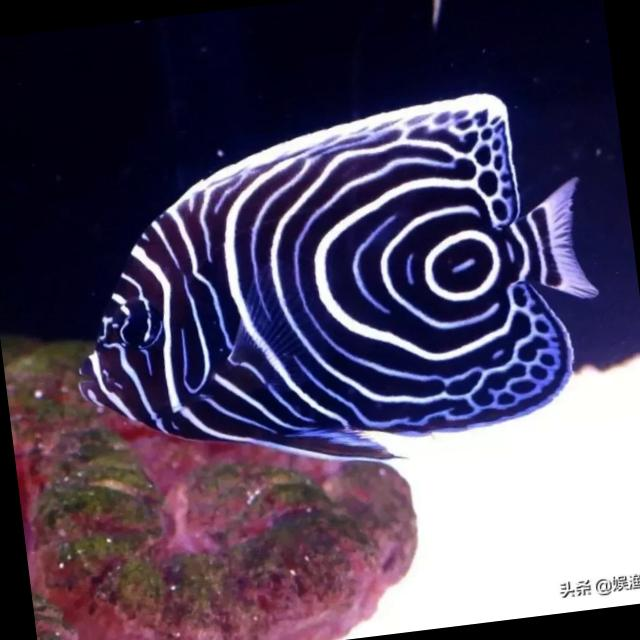AngelFish: (48, 81, 611, 480)
